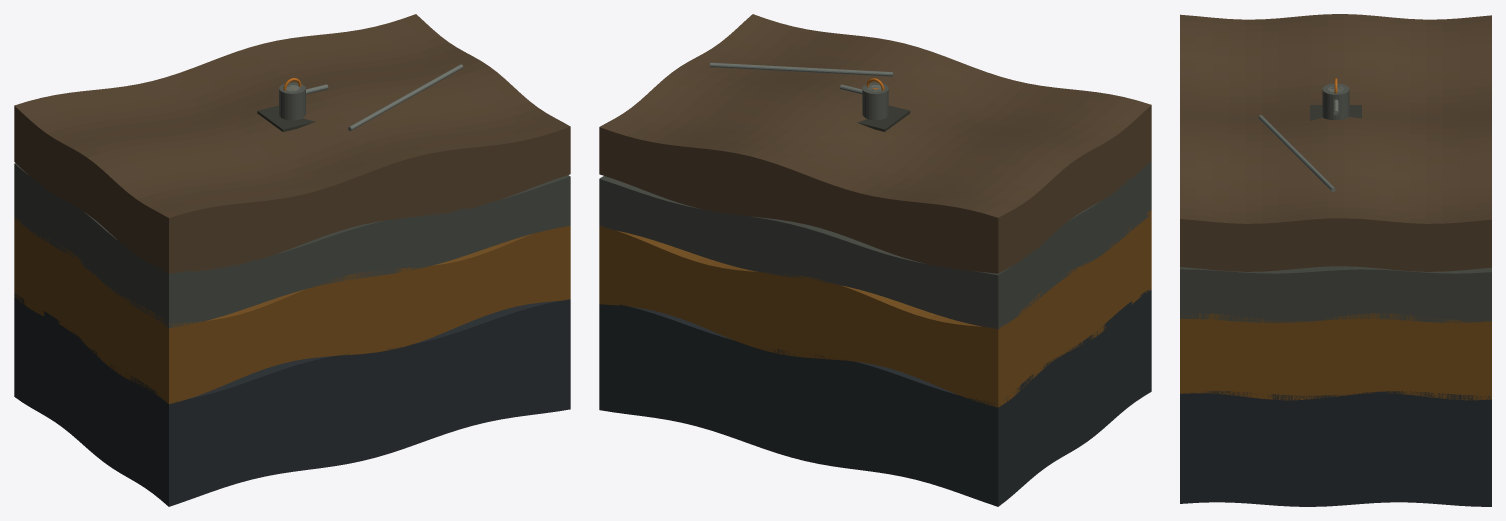
The model's file is underground.obj.
3 renders of one model, left to right at view 1: azimuth 30°, elevation 25°; view 2: azimuth 150°, elevation 25°; view 3: azimuth 270°, elevation 25°, orthographic.
Visible parts, largest first — view 1: geo_overburden, geo_basement, geo_reservoir_layer, geo_caprock, well_cement, well_flowline, surface_pad; view 2: geo_overburden, geo_basement, geo_reservoir_layer, geo_caprock, well_flowline, well_cement; view 3: geo_overburden, geo_basement, geo_reservoir_layer, geo_caprock, well_cement, well_flowline, surface_pad.
Part boxes in pixels (x1,y1,x2,y2): geo_overburden: [14, 14, 570, 273]; geo_basement: [14, 293, 570, 506]; geo_reservoir_layer: [14, 216, 570, 404]; geo_caprock: [14, 163, 570, 328]; well_cement: [279, 82, 305, 120]; well_flowline: [348, 64, 463, 131]; surface_pad: [257, 105, 315, 131]; geo_overburden: [599, 14, 1151, 273]; geo_basement: [599, 289, 1151, 506]; geo_reservoir_layer: [599, 210, 1151, 407]; geo_caprock: [599, 160, 1151, 329]; well_flowline: [710, 62, 893, 76]; well_cement: [862, 82, 888, 120]; geo_overburden: [1180, 14, 1491, 271]; geo_basement: [1180, 391, 1491, 506]; geo_reservoir_layer: [1180, 313, 1491, 400]; geo_caprock: [1180, 266, 1491, 322]; well_cement: [1322, 83, 1349, 120]; well_flowline: [1258, 115, 1335, 191]; surface_pad: [1310, 105, 1361, 120].
Bounding box in the file's own units: 18 × 14 × 12.
